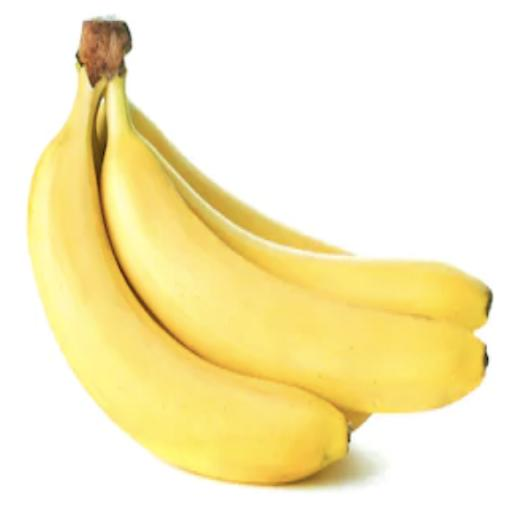banana: (28, 69, 348, 484), (101, 77, 487, 413), (129, 103, 492, 330), (159, 154, 492, 330), (129, 103, 349, 254)
